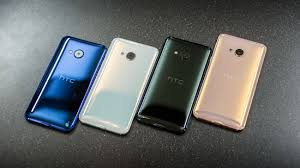htc: (25, 32, 108, 134), (136, 35, 214, 135)
